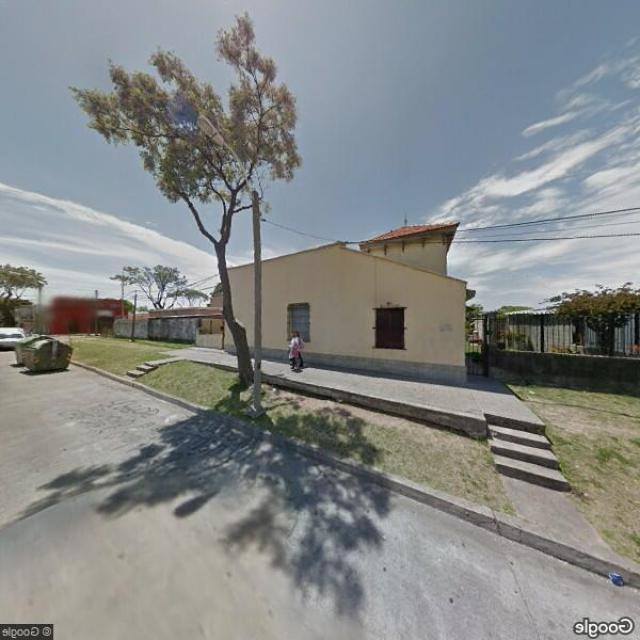garbage container: (6, 325, 77, 380)
